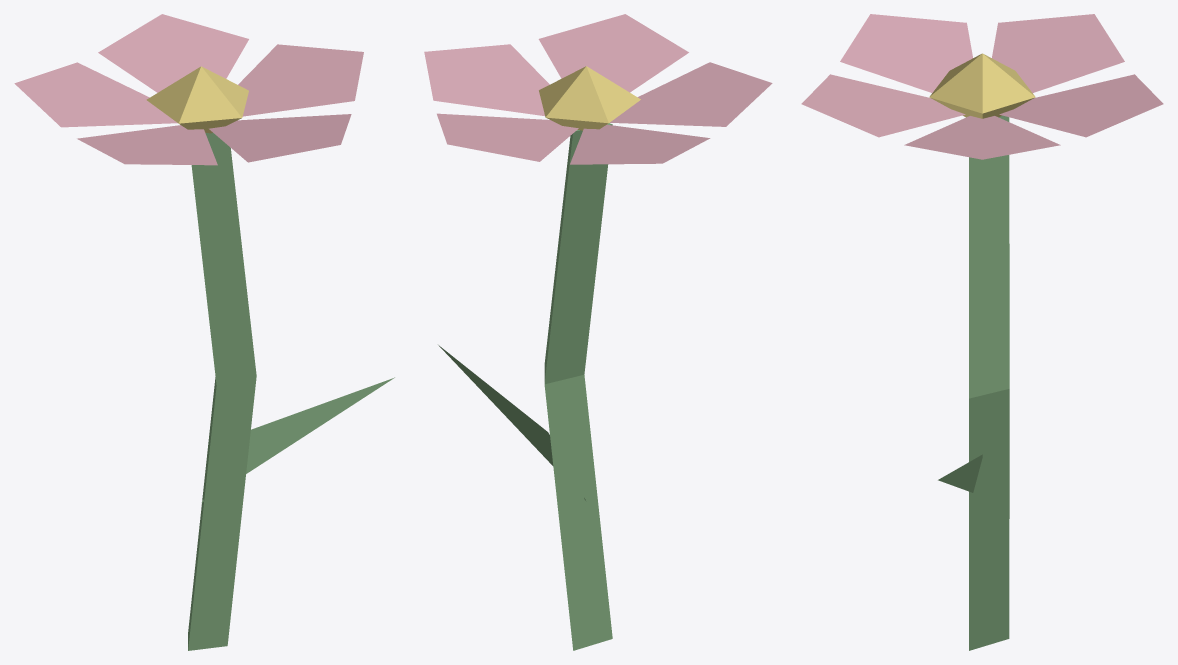
Rendered from wild_flower_2.gltf.
3 renders of one model, left to right at view 1: azimuth 30°, elevation 25°; view 2: azimuth 150°, elevation 25°; view 3: azimuth 270°, elevation 25°, orthographic.
Parts seen in each view (by area): view 1: wild_flower_2; view 2: wild_flower_2; view 3: wild_flower_2.
Boxes of the visible parts, bbox=[...] form: wild_flower_2: bbox=[14, 14, 394, 650]; wild_flower_2: bbox=[424, 14, 772, 650]; wild_flower_2: bbox=[801, 14, 1163, 650].
Bounding box in the file's own units: 0.1591 × 0.2892 × 0.1617.
